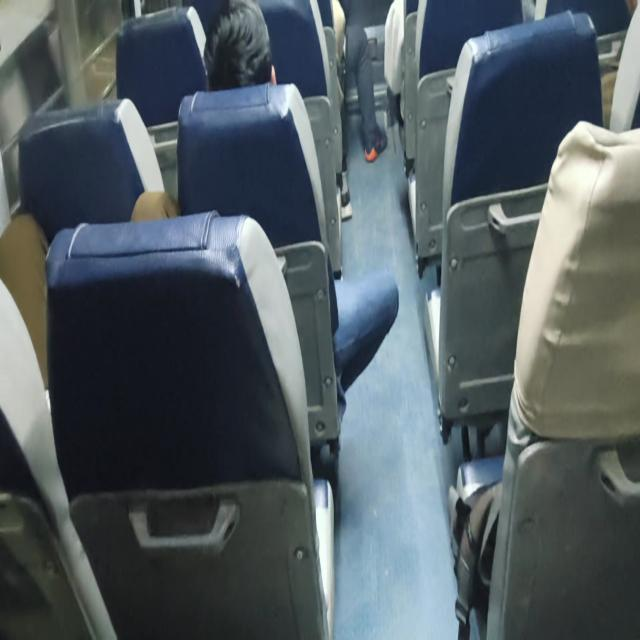person: (200, 0, 283, 86)
